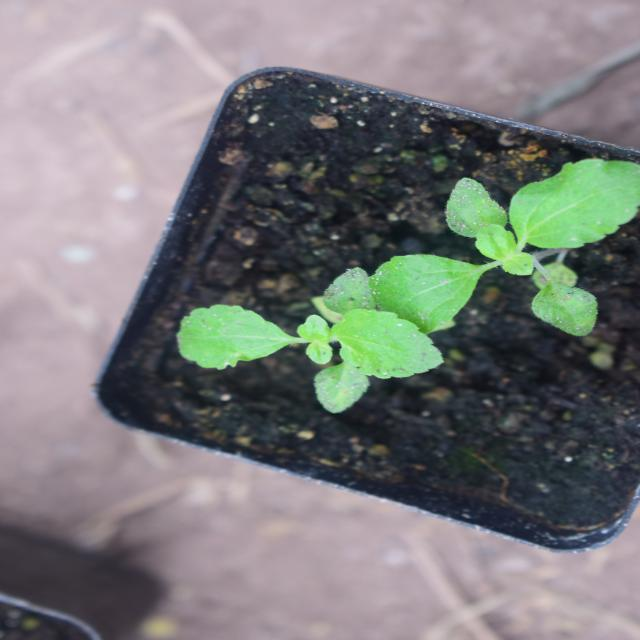billygoat_weed: (303, 328, 480, 633), (223, 138, 350, 454)
